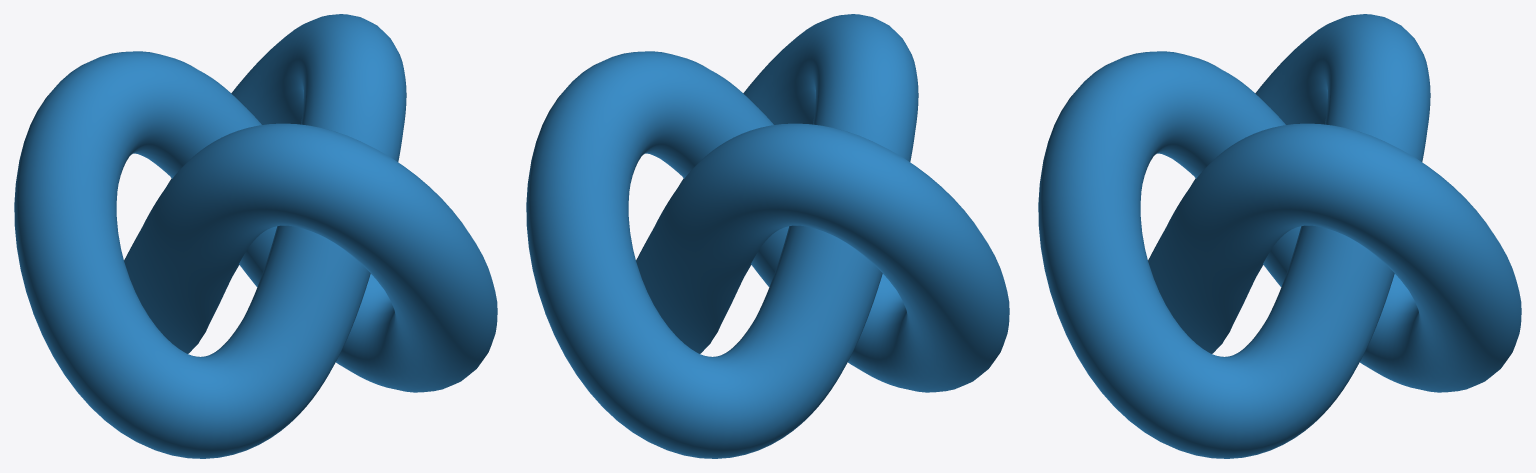
Rendered from textureMappedTorusKnot.glb.
The picture shows the model from 3 angles, left to right: view 1: azimuth 30°, elevation 25°; view 2: azimuth 150°, elevation 25°; view 3: azimuth 270°, elevation 25°; orthographic projection.
Parts seen in each view (by area): view 1: Torus Knot001; view 2: Torus Knot001; view 3: Torus Knot001.
Part boxes in pixels (x1,y1,x2,y2): Torus Knot001: [14, 14, 497, 458]; Torus Knot001: [526, 14, 1009, 458]; Torus Knot001: [1038, 14, 1521, 458].
Bounding box in the file's own units: 2.02 × 1.58 × 2.13.
